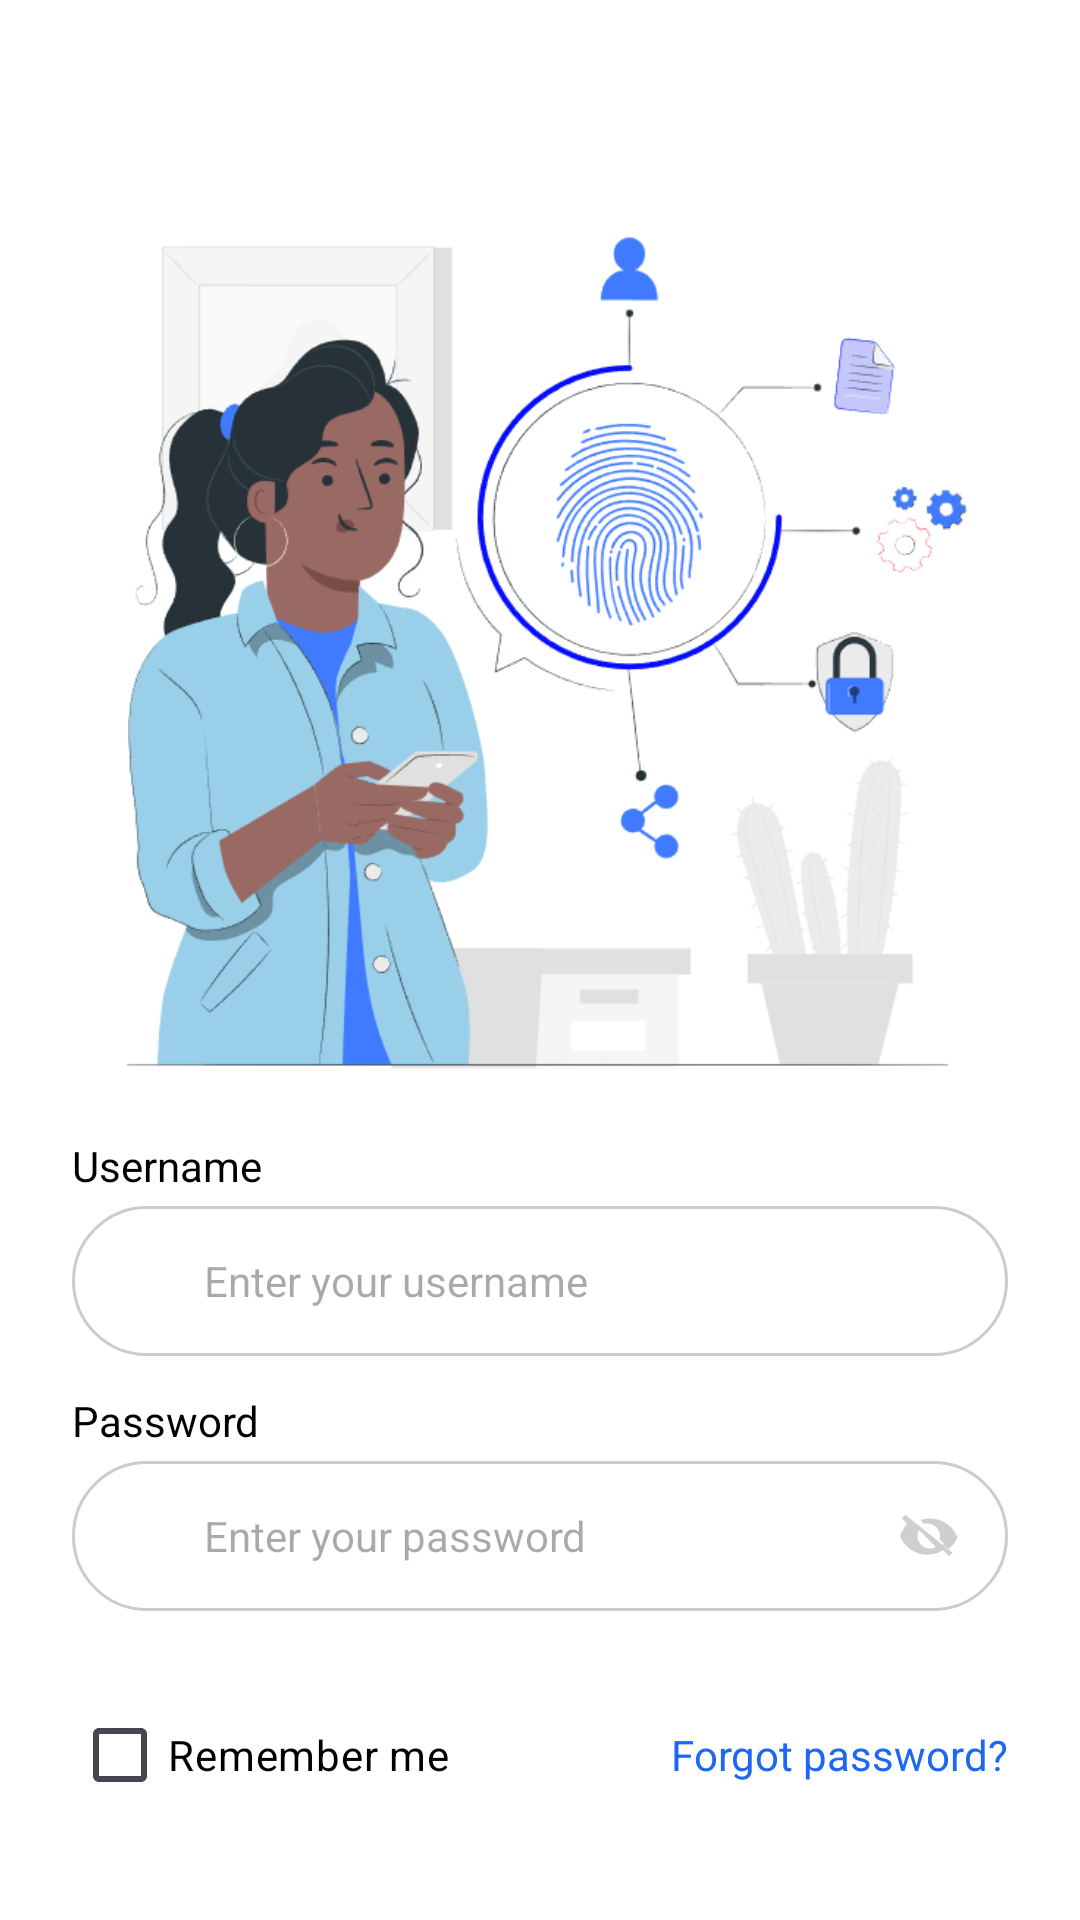

Named icons in this screenshot (1080 x 1920) and their centers, [x,y]:
eye off: [928,1535]
